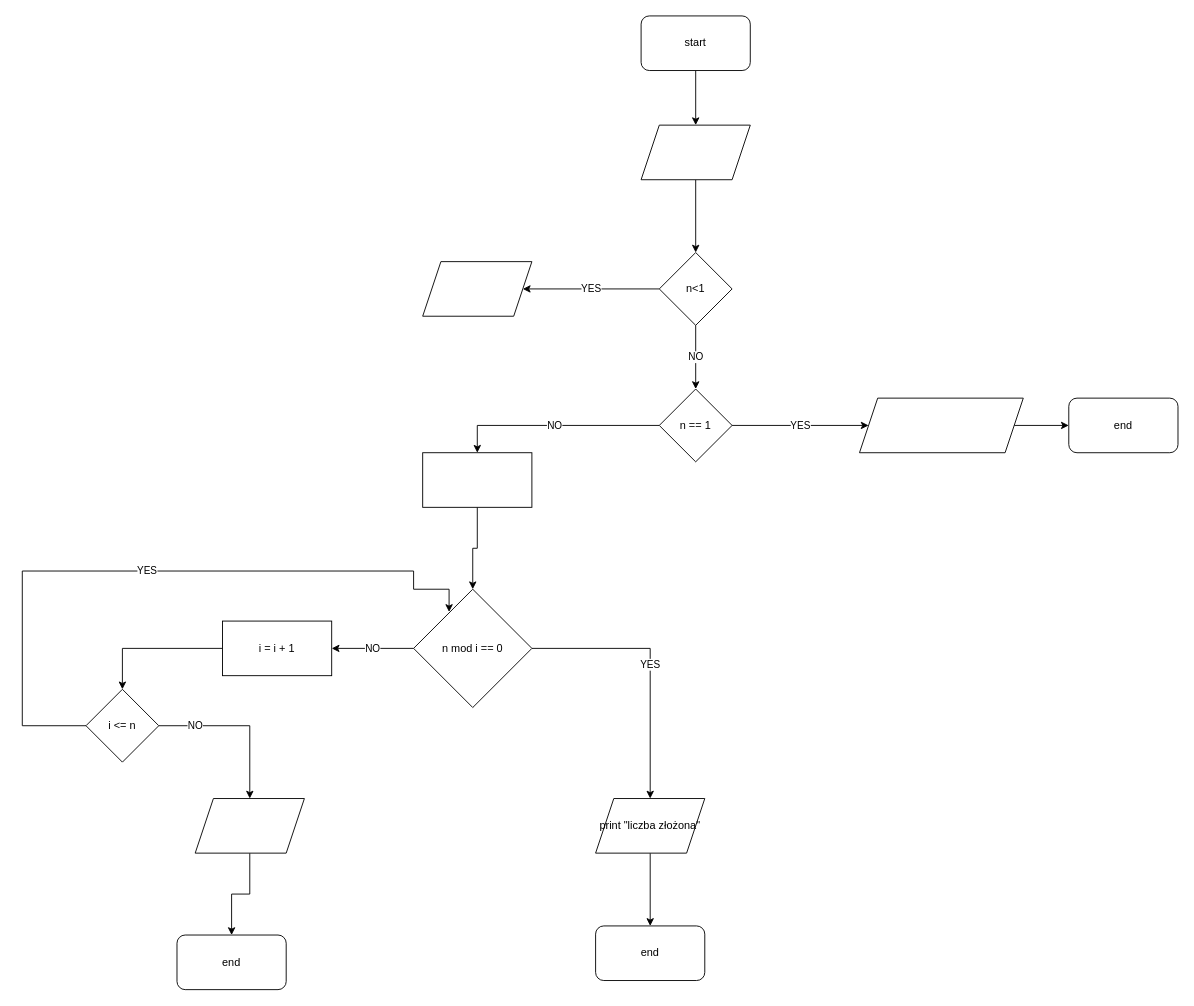
Some shapes in this 1194 by 1006 pixel diagram are drawn without their labels. The centre of each missing label's shape, as x and y in pixels:
i=2: [477,479]
input n: [695,152]
must be positive: [477,288]
print "jeden rabin powie tak inny rabin powie nie": [941,425]
print "liczba pierwsza": [249,825]
